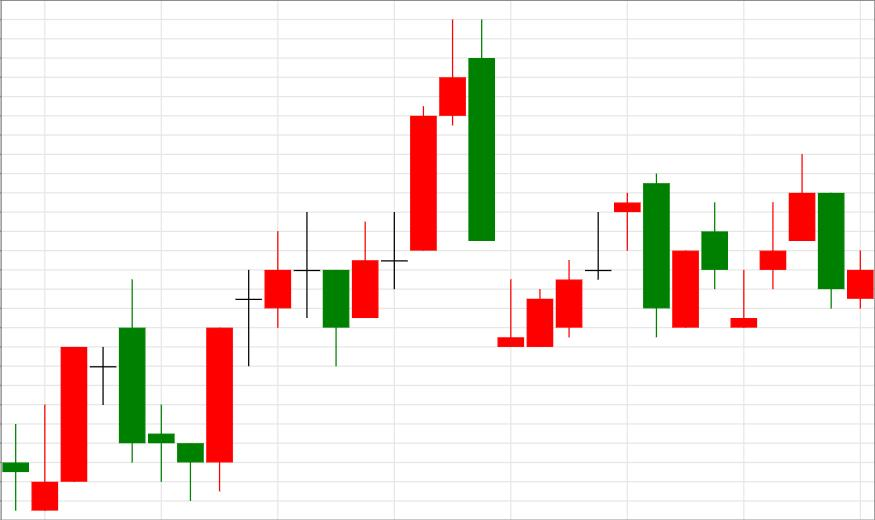bearish_engulfing_fall: (207, 18, 495, 493)
